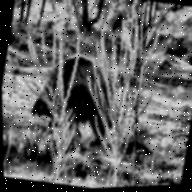boar: (22, 33, 141, 186)
